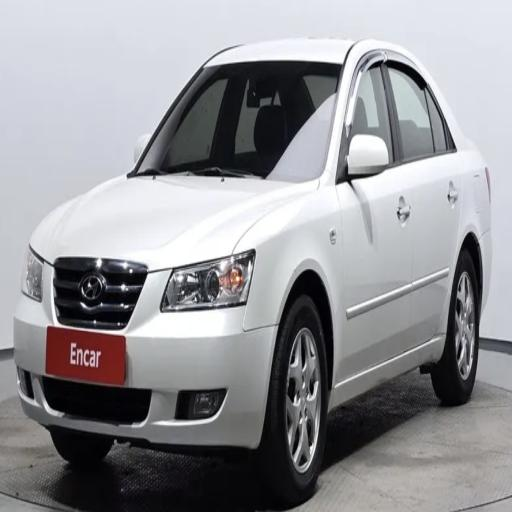normal: (30, 19, 500, 498)
